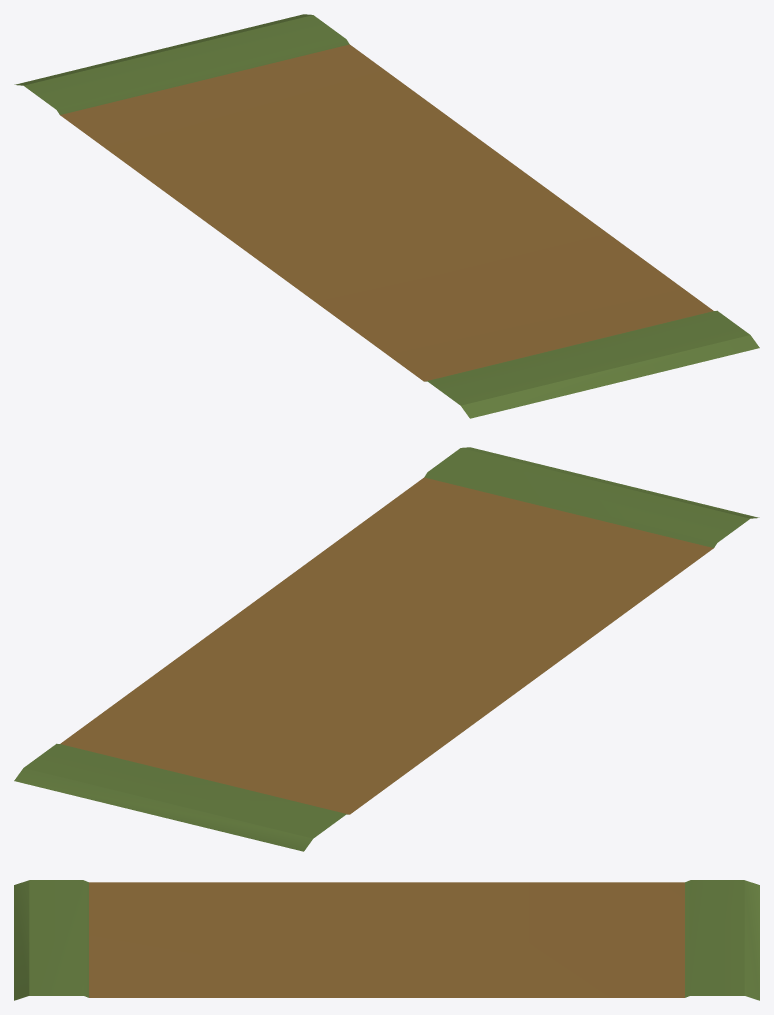
The model's file is SF_Env_Path_Straight_08.fbx.
3 views of the same model, one above another, from view 1: azimuth 30°, elevation 25°; view 2: azimuth 150°, elevation 25°; view 3: azimuth 270°, elevation 25° (orthographic). The views are drawn at different scales.
Parts seen in each view (by area): view 1: SF_Env_Path_Straight_08; view 2: SF_Env_Path_Straight_08; view 3: SF_Env_Path_Straight_08.
Boxes of the visible parts, left/top/right/bottom form: SF_Env_Path_Straight_08: left=14, top=14, right=759, bottom=418; SF_Env_Path_Straight_08: left=14, top=447, right=759, bottom=851; SF_Env_Path_Straight_08: left=14, top=880, right=759, bottom=1000.
Size of the model in its own units: 1.99 by 0.0403 by 5.42.
